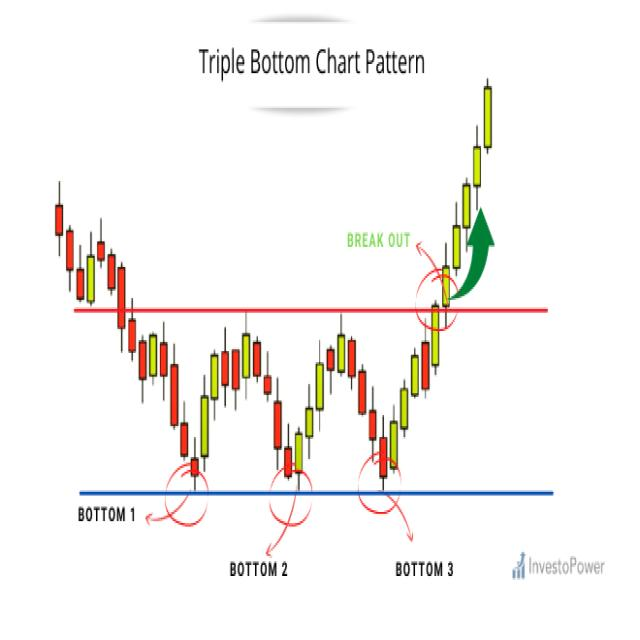Triple-Bottom: (118, 313, 450, 475)
